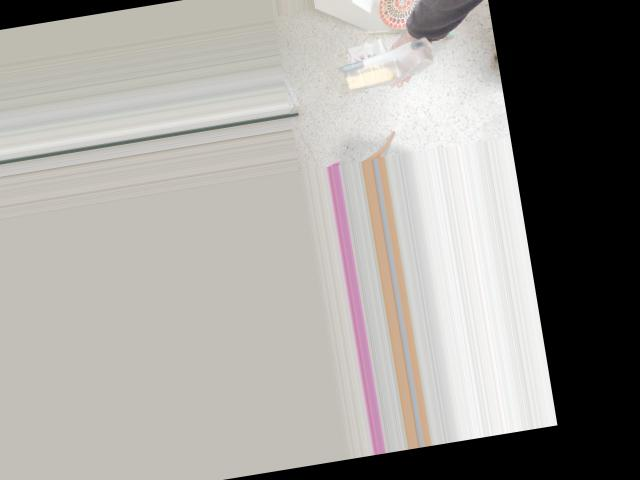cheese: (338, 37, 434, 93)
